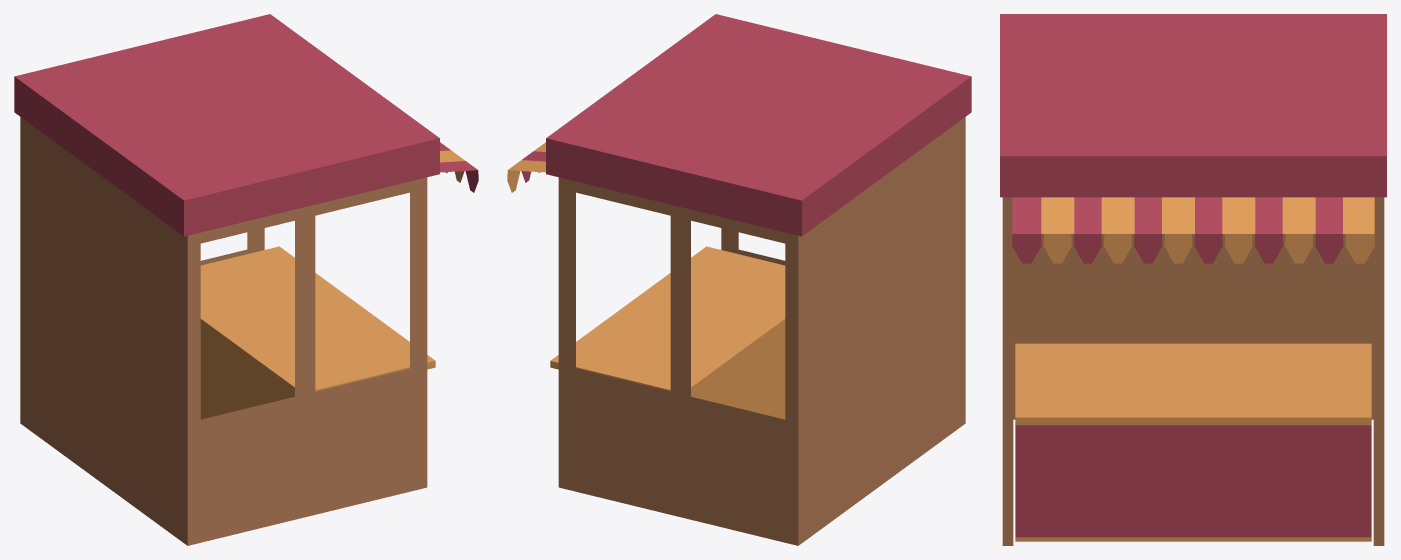
The model's file is booth1.2.fbx.
3 renders of one model, left to right at view 1: azimuth 30°, elevation 25°; view 2: azimuth 150°, elevation 25°; view 3: azimuth 270°, elevation 25°, orthographic. The views are drawn at different scales.
Visible parts, largest first — view 1: Cube.004, Cube.005, Cube.003, Plane; view 2: Cube.004, Cube.005, Cube.003, Plane; view 3: Cube.005, Cube.004, Plane.001, Cube.003, Plane.
Part boxes in pixels (bbox=[...]): Cube.004: bbox=[20, 117, 427, 545]; Cube.005: bbox=[14, 14, 439, 236]; Cube.003: bbox=[200, 246, 435, 419]; Plane: bbox=[440, 142, 478, 192]; Cube.004: bbox=[558, 117, 965, 545]; Cube.005: bbox=[546, 14, 971, 236]; Cube.003: bbox=[550, 246, 785, 419]; Plane: bbox=[507, 142, 545, 192]; Cube.005: bbox=[1000, 14, 1386, 197]; Cube.004: bbox=[1002, 197, 1384, 545]; Plane.001: bbox=[1015, 425, 1371, 537]; Cube.003: bbox=[1015, 343, 1371, 541]; Plane: bbox=[1012, 197, 1374, 263].
Bounding box in the file's own units: 431 × 478 × 423.
